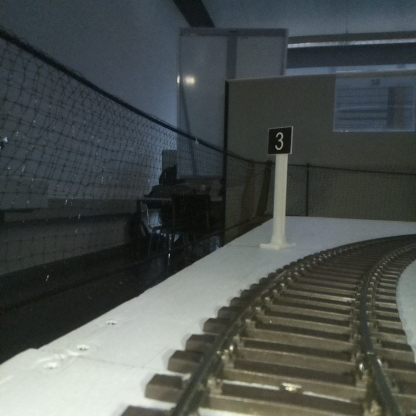black-info-3: (268, 127, 292, 248)
